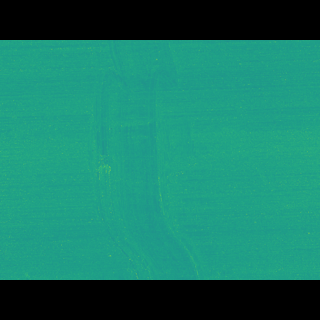Loch: (80, 69, 226, 249)
